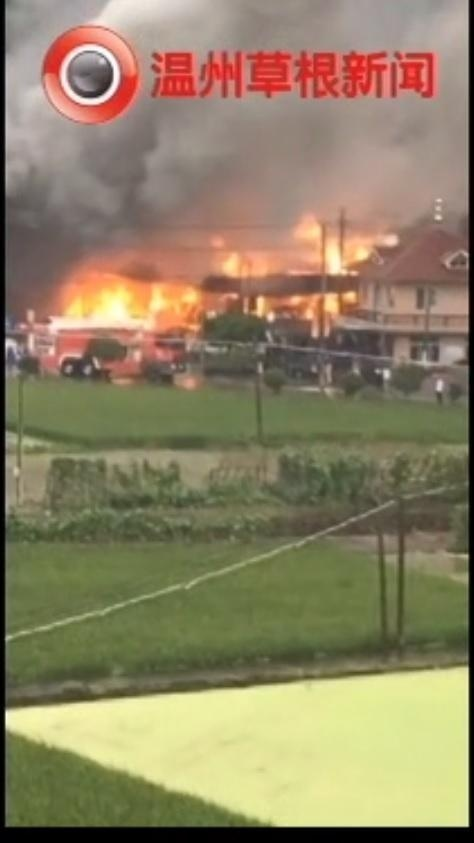fire: (220, 217, 379, 322), (43, 267, 204, 333)
